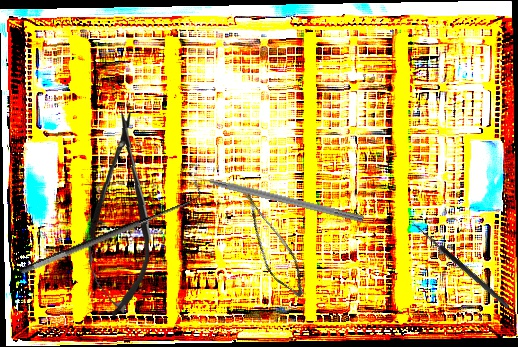Hook Surgical: (13, 179, 209, 277), (179, 168, 365, 224), (405, 220, 511, 314)
Micro Scissor: (82, 108, 159, 319), (219, 188, 322, 302)
